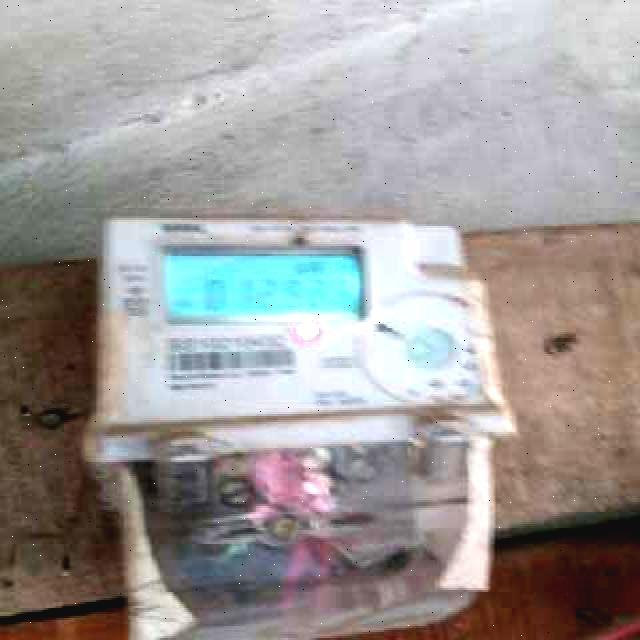LCD: (155, 243, 381, 323)
